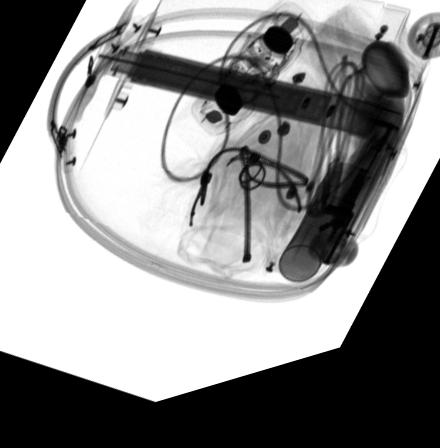Gun: (319, 144, 395, 285)
